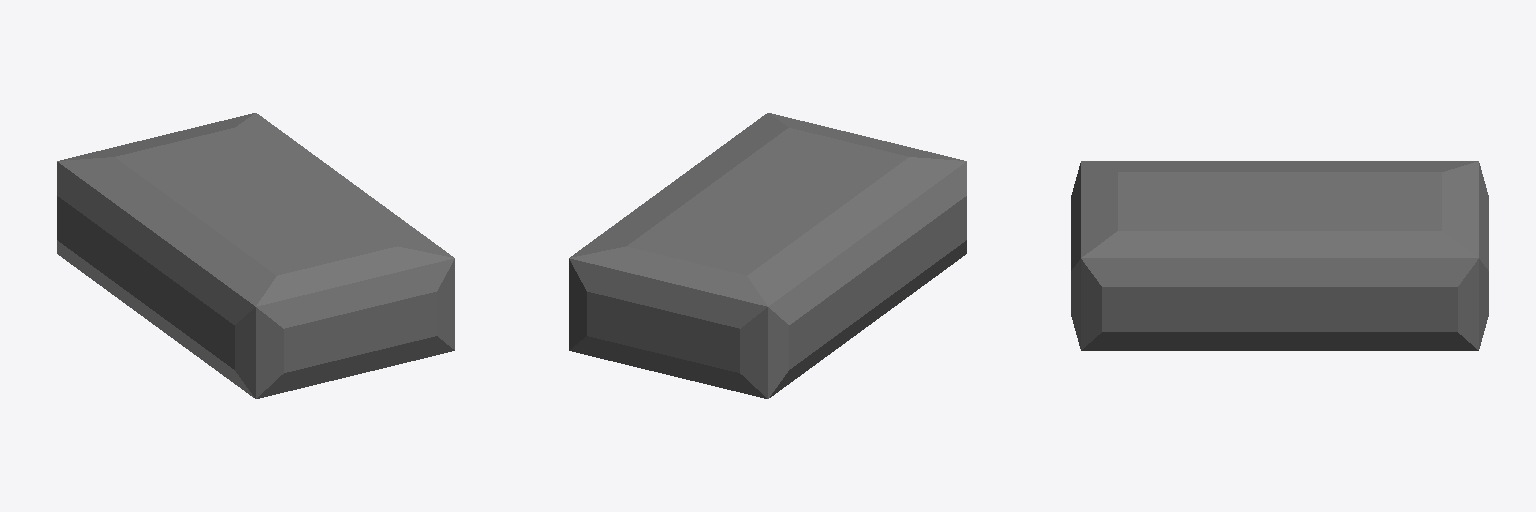
File: rune.obj
The picture shows the model from 3 angles: view 1: azimuth 30°, elevation 25°; view 2: azimuth 150°, elevation 25°; view 3: azimuth 270°, elevation 25°; orthographic projection.
Parts seen in each view (by area): view 1: Box001; view 2: Box001; view 3: Box001.
Part boxes in pixels (x1,y1,x2,y2): Box001: (57, 113, 454, 398); Box001: (569, 113, 966, 398); Box001: (1071, 161, 1488, 350).
Size of the model in its own units: 18.35 by 8.66 by 30.13.